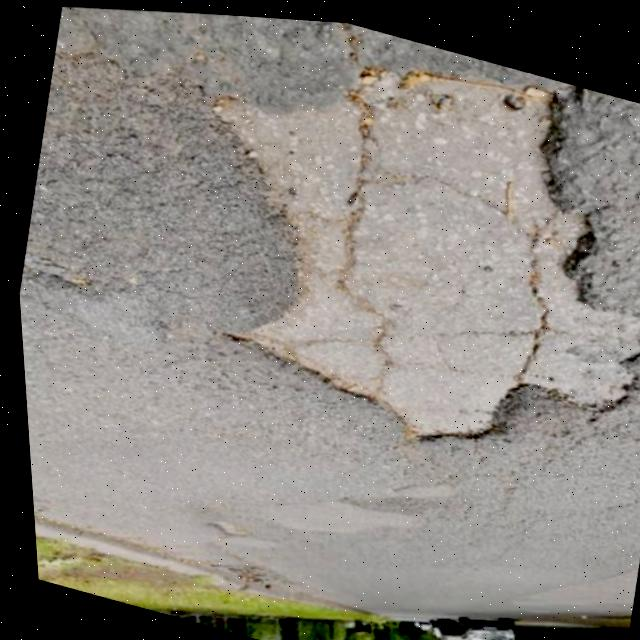Pothole: (110, 6, 640, 535)
